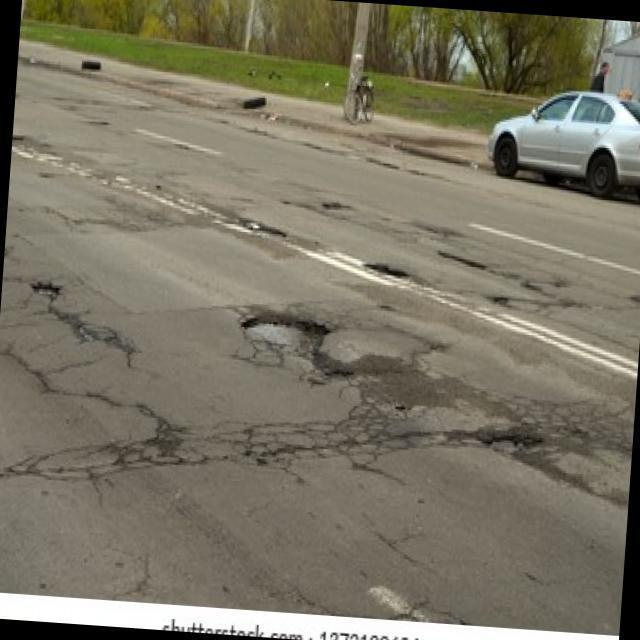pothole: (239, 313, 356, 382), (481, 424, 542, 461), (437, 251, 487, 273), (362, 259, 409, 281), (240, 215, 287, 237), (31, 279, 61, 300), (318, 201, 347, 210), (493, 295, 506, 305), (12, 132, 25, 140)
